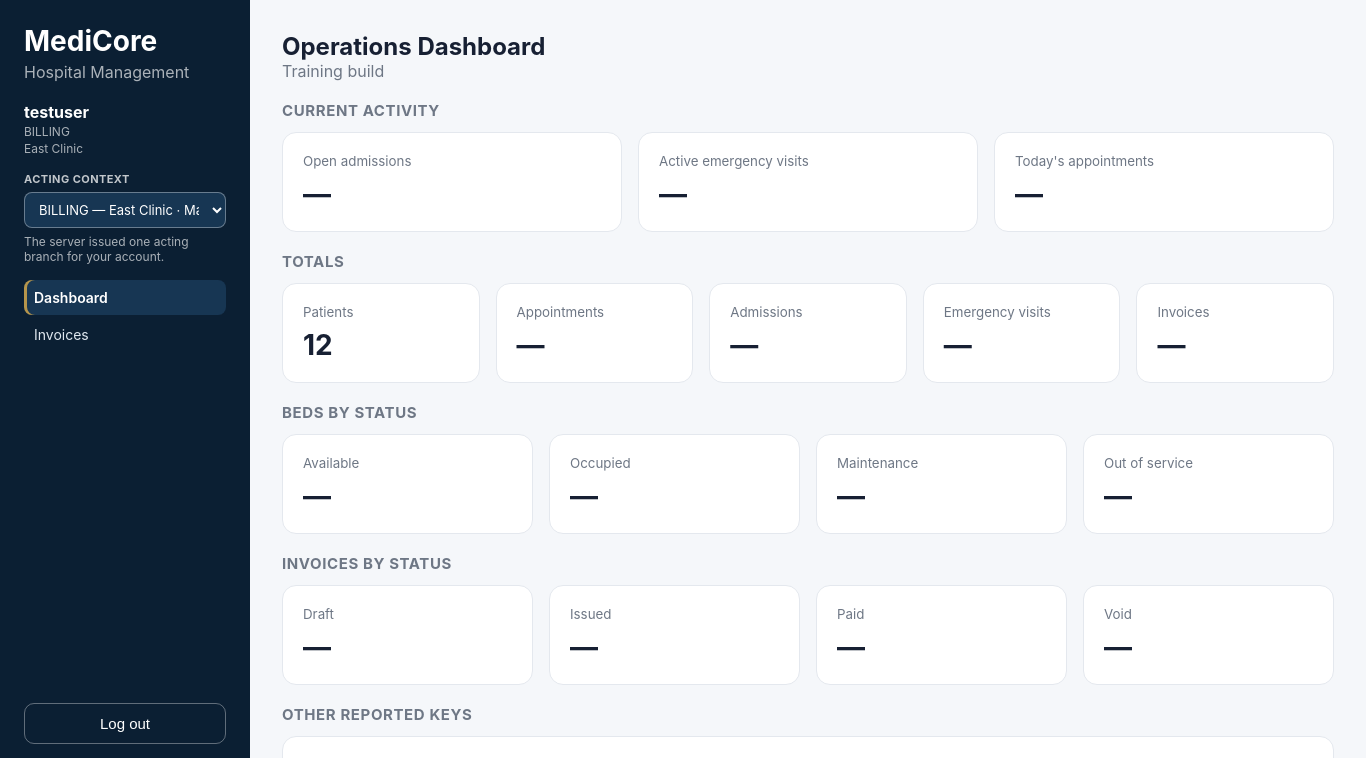
Test case: AppShell › opens the invoices screen for a billing role and loads its list once
This screenshot has width=1366, height=758.
Expected: the text "Patients" is shown, [303,304,354,320]
Expected: the text "12" is shown, [303,328,333,362]
Click the button "Invoices". click: (125, 334)
box: [24,317,226,352]
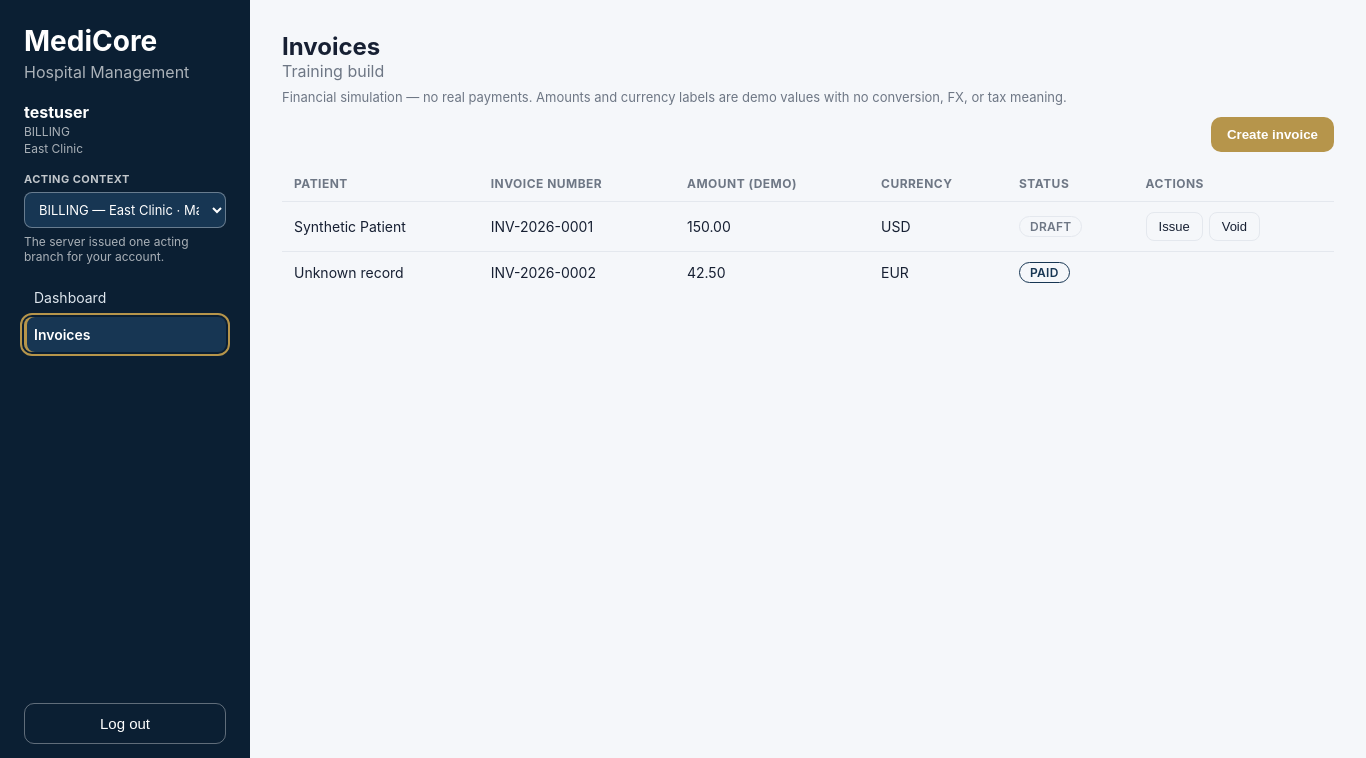
Now the heading "Invoices" is shown, box [282,32,384,61]
Now the number of rows is 3, box [282,166,1334,202]; [282,202,1334,252]; [282,252,1334,293]
Now the text "Synthetic Patient" is shown, box [282,202,479,252]
